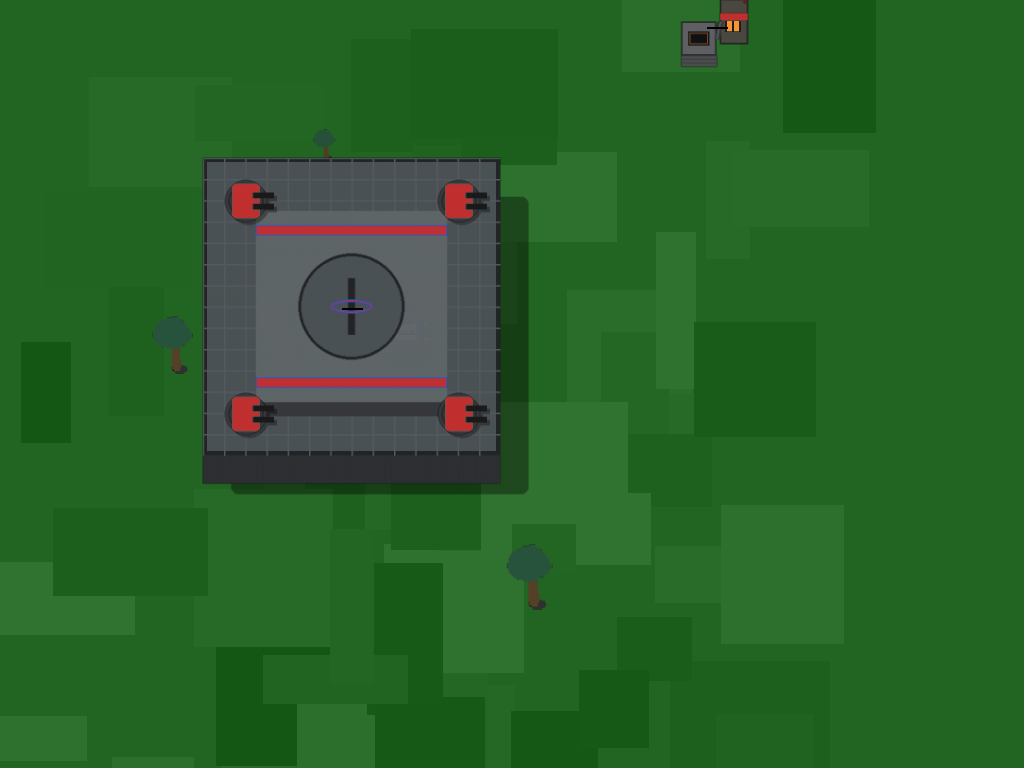AntiAirTurret: (384, 308, 431, 355)
Bastion: (176, 131, 528, 483)
MiningRig: (676, 0, 758, 82)
